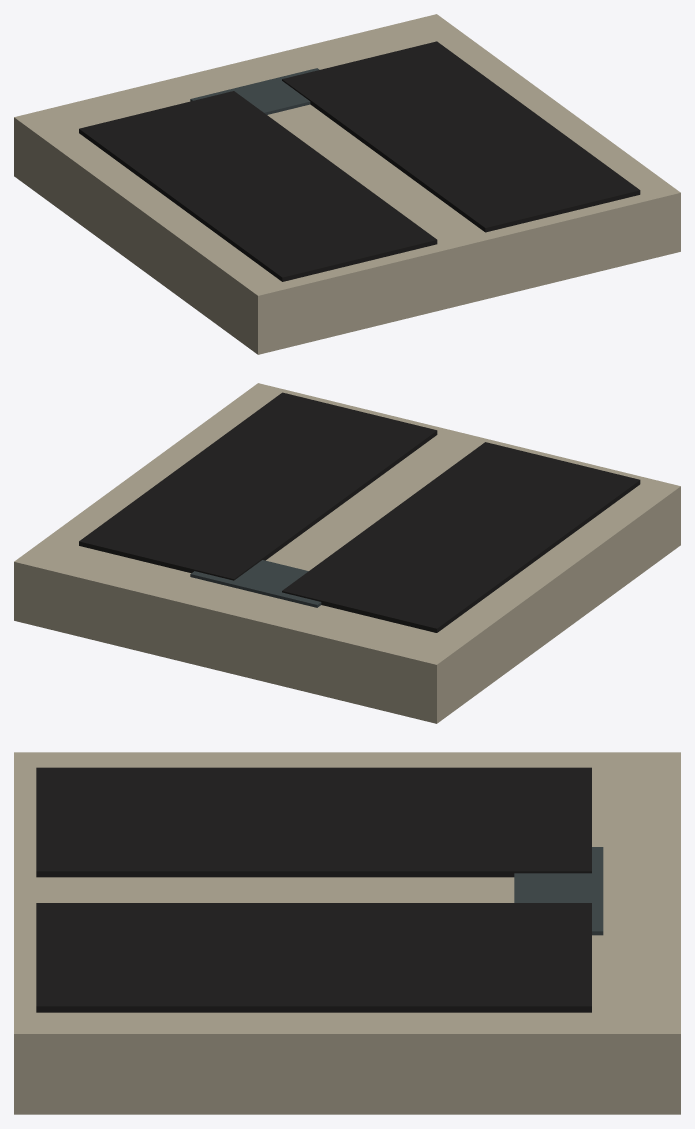
File: bath-scale.glb
3 renders of one model, top to bottom at view 1: azimuth 30°, elevation 25°; view 2: azimuth 150°, elevation 25°; view 3: azimuth 270°, elevation 25°, orthographic. The views are drawn at different scales.
Visible parts, largest first — view 1: plastic-light, rubber, glass; view 2: plastic-light, rubber, glass; view 3: rubber, plastic-light, glass.
Boxes of the visible parts, <box> form: plastic-light: <box>14,14,680,354</box>; rubber: <box>79,41,640,281</box>; glass: <box>190,68,319,114</box>; plastic-light: <box>14,383,680,723</box>; rubber: <box>79,392,640,632</box>; glass: <box>190,560,321,607</box>; rubber: <box>36,767,591,1012</box>; plastic-light: <box>14,752,680,1114</box>; glass: <box>514,847,603,935</box>.
Bounding box in the file's own units: 0.3 × 0.043 × 0.3.
